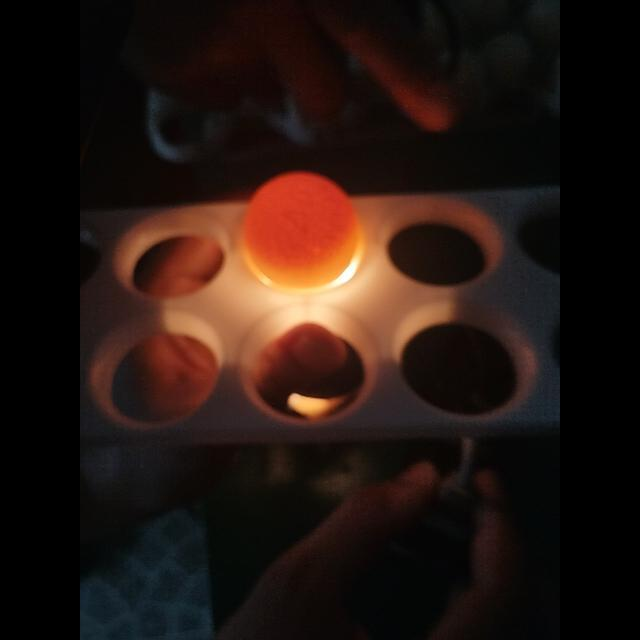Infertile: (240, 171, 364, 297)
